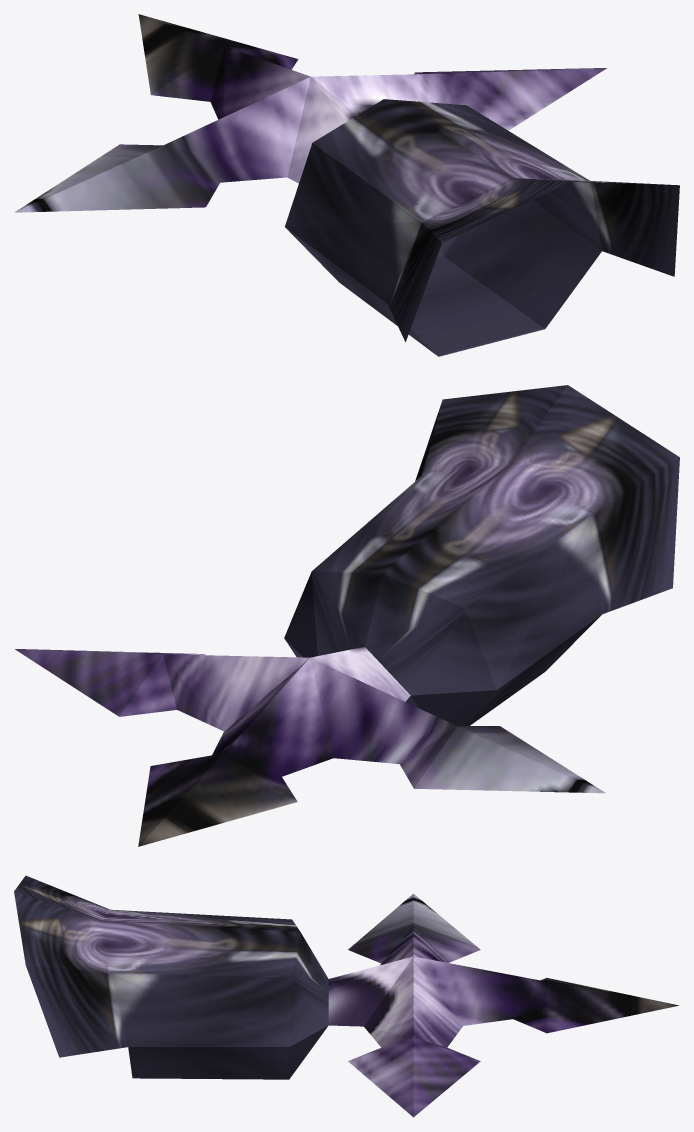
File: twinblade101_6.obj
3 views of the same model, one above another, from view 1: azimuth 30°, elevation 25°; view 2: azimuth 150°, elevation 25°; view 3: azimuth 270°, elevation 25° (orthographic). The views are drawn at different scales.
Parts seen in each view (by area): view 1: MDL_cwdhkn01_6r; view 2: MDL_cwdhkn01_6r; view 3: MDL_cwdhkn01_6r.
Boxes of the visible parts, bbox=[...] form: MDL_cwdhkn01_6r: bbox=[14, 14, 679, 356]; MDL_cwdhkn01_6r: bbox=[15, 385, 679, 846]; MDL_cwdhkn01_6r: bbox=[14, 875, 679, 1117].
Size of the model in its own units: 0.4525 by 0.1587 by 0.5687.
